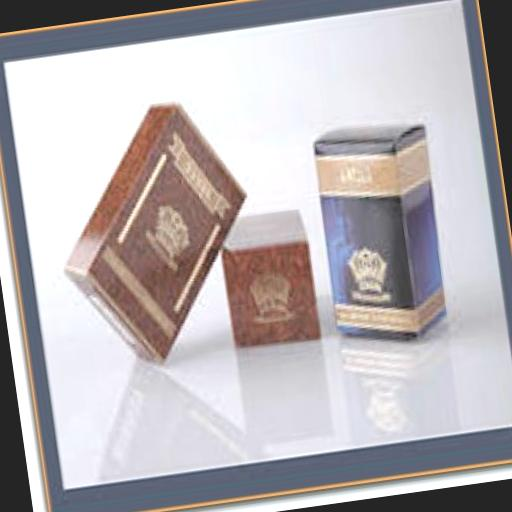cardboard: (46, 90, 269, 370), (310, 115, 456, 350), (215, 205, 324, 352)
